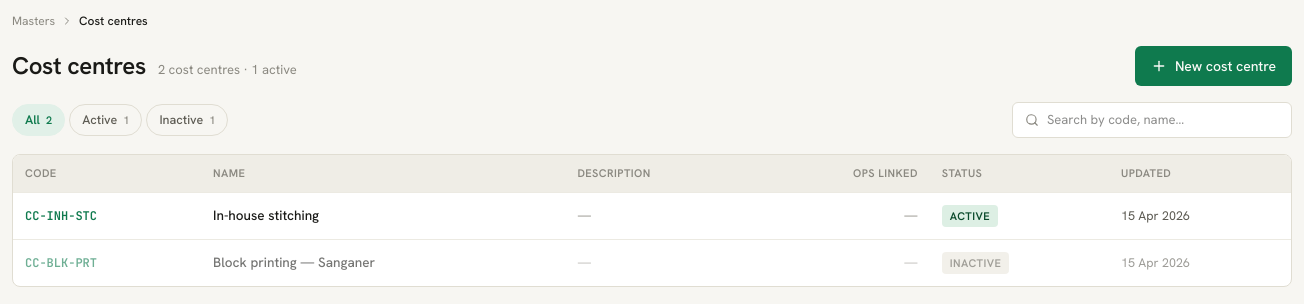
Test case: CostCentresList (live-mode integration, TASK-TR-E1-COSTCENTRES) › Inactive filter chip hides active rows
Expected: the text "In-house stitching" is shown, [213,206,319,224]
Click the button "Inactive 1": (187, 120) [146,104,228,136]
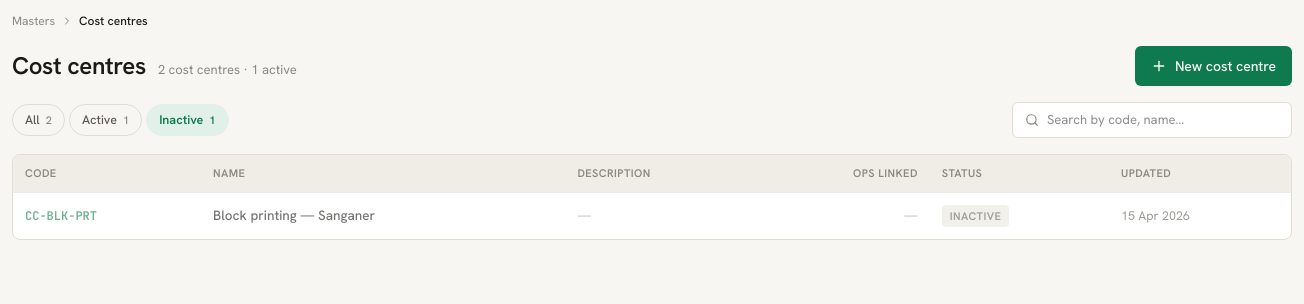
Expected: the text "Block printing — Sanganer" is shown, [213,206,375,224]
Expected: the text "In-house stitching" is gone
